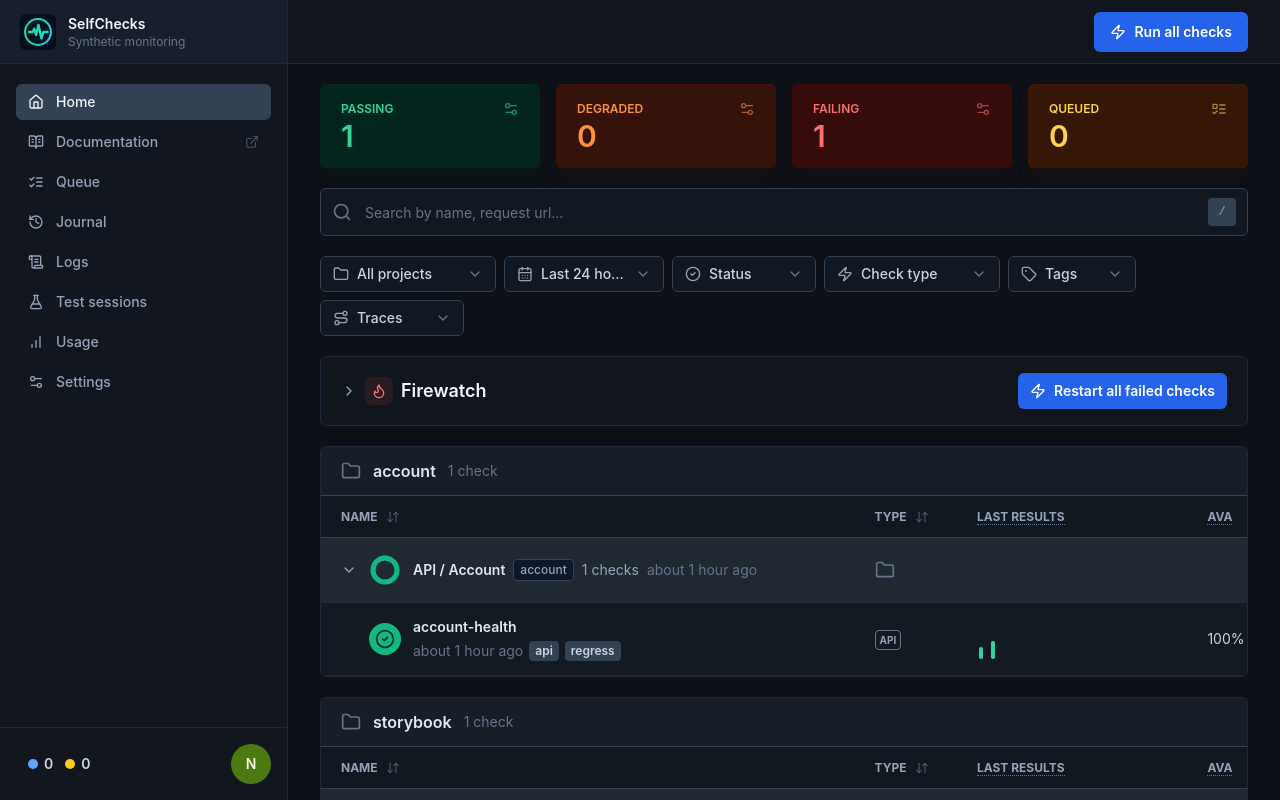
Test case: DashboardPage › filters dashboard checks and status counters by project
The width and height of the screenshot is (1280, 800).
Click the button "All projects" at (408, 274), box [320, 256, 496, 292]
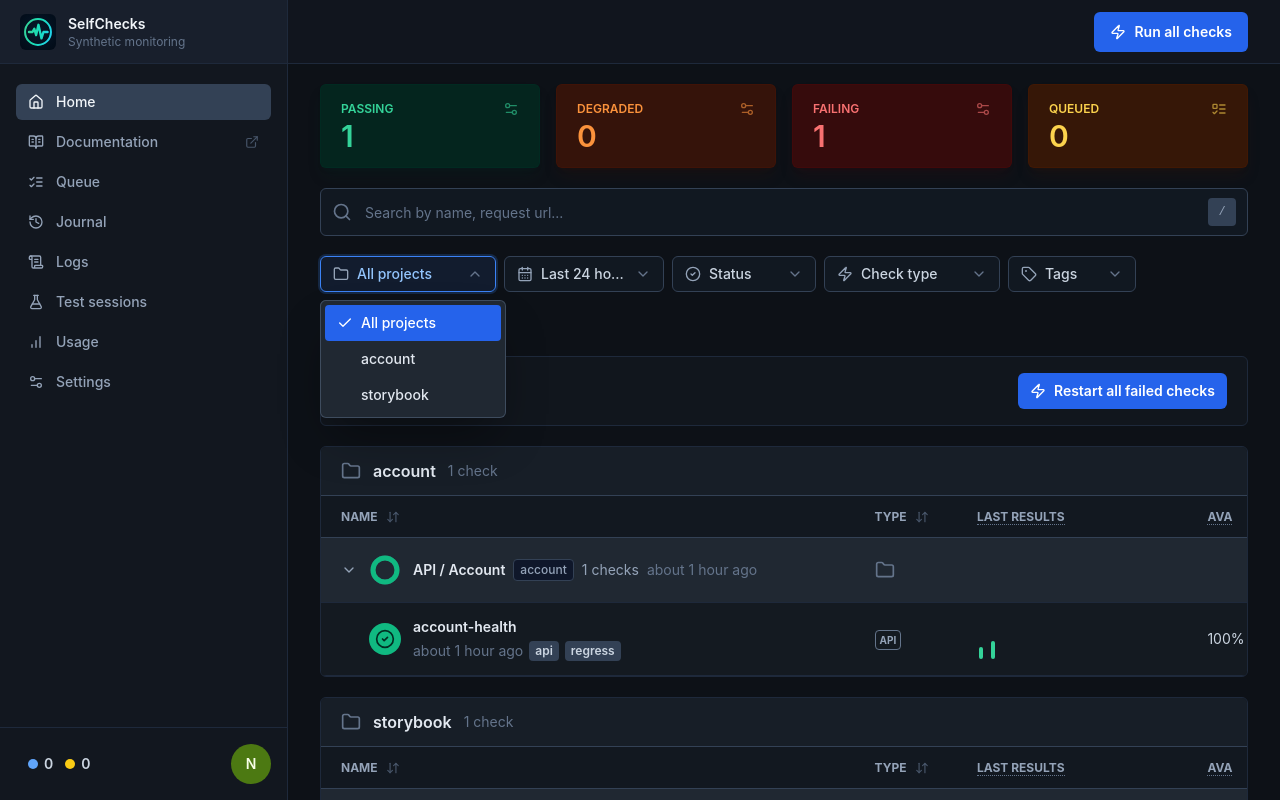
Click the option "storybook" at (413, 395), box [325, 377, 501, 413]
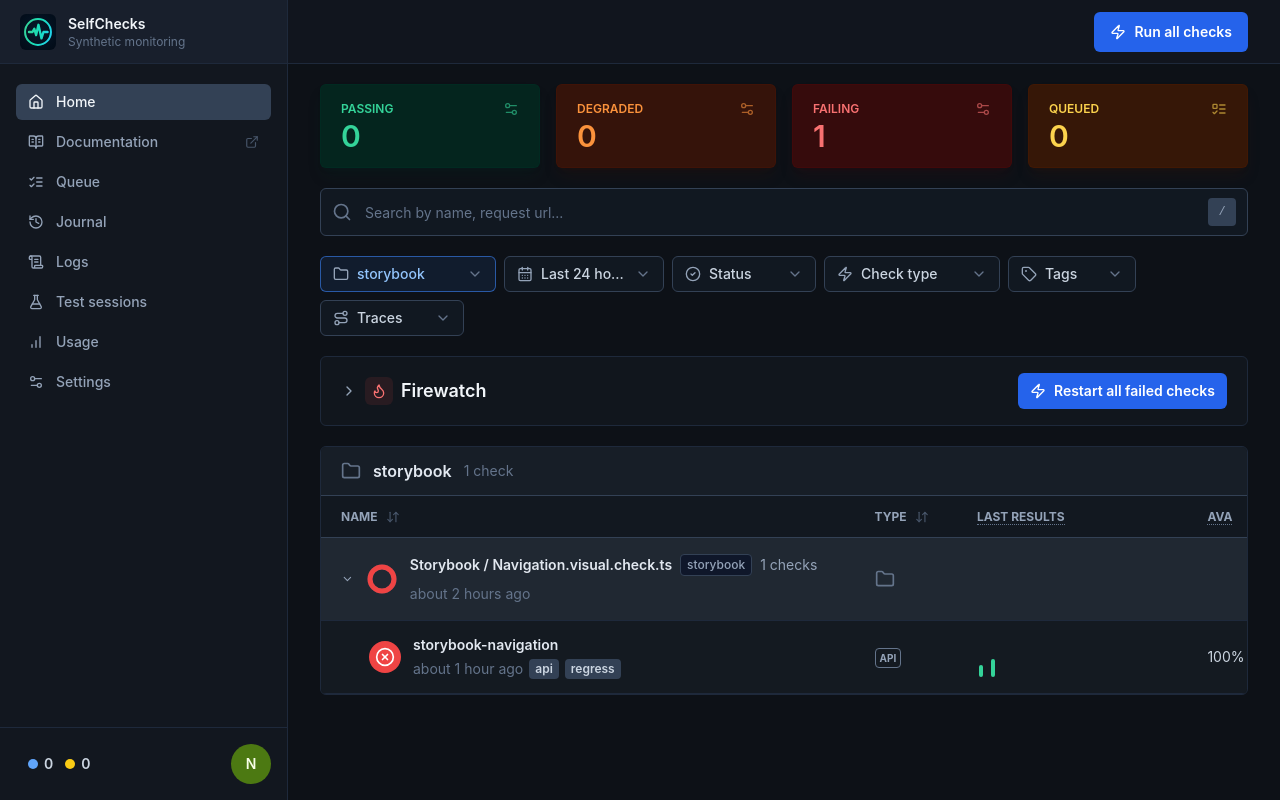
expect the link "storybook-navigation" is shown: met, box [413, 636, 558, 653]
expect the link "account-health" is gone: met
expect the button "PASSING 0" is shown: met, box [320, 84, 540, 168]
